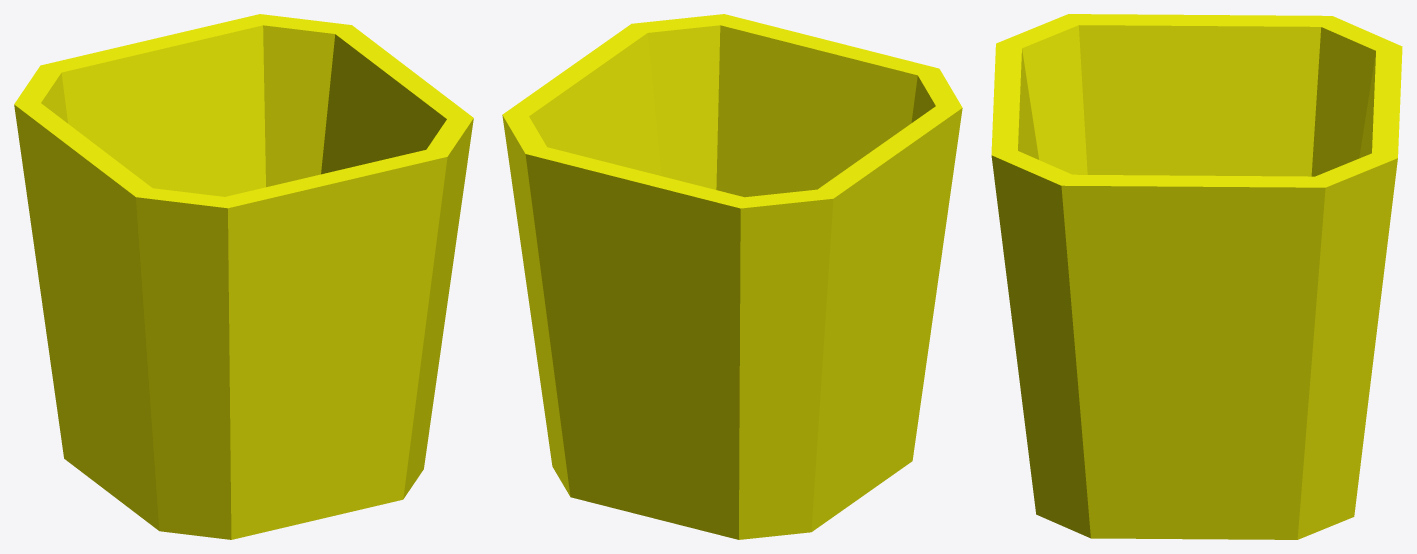
The model's file is Contenedor.fbx.
3 views of the same model, side by side, from view 1: azimuth 30°, elevation 25°; view 2: azimuth 150°, elevation 25°; view 3: azimuth 270°, elevation 25° (orthographic). The views are drawn at different scales.
Parts seen in each view (by area): view 1: Contenedor01; view 2: Contenedor01; view 3: Contenedor01.
Boxes of the visible parts, x1=… form: Contenedor01: x1=14, y1=14, x2=473, y2=539; Contenedor01: x1=502, y1=14, x2=962, y2=539; Contenedor01: x1=991, y1=14, x2=1402, y2=539.
Bounding box in the file's own units: 15.79 × 15.73 × 15.79.
